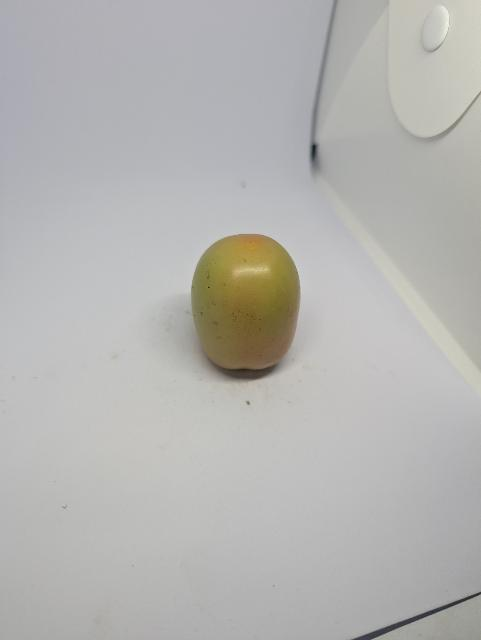breaker: (189, 229, 305, 383)
